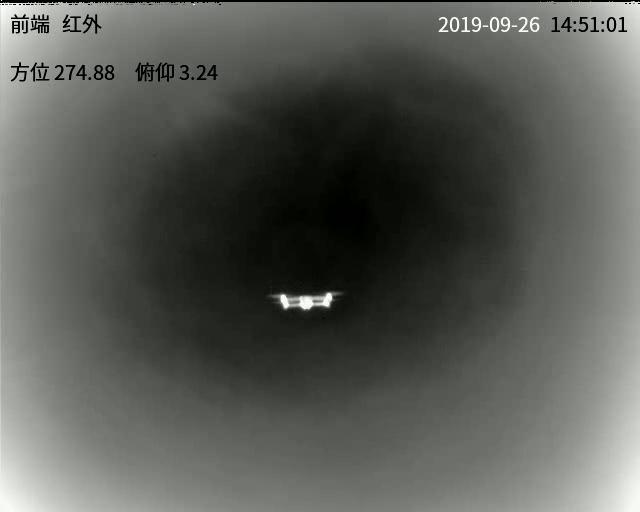DRONE: (271, 292, 341, 309)
